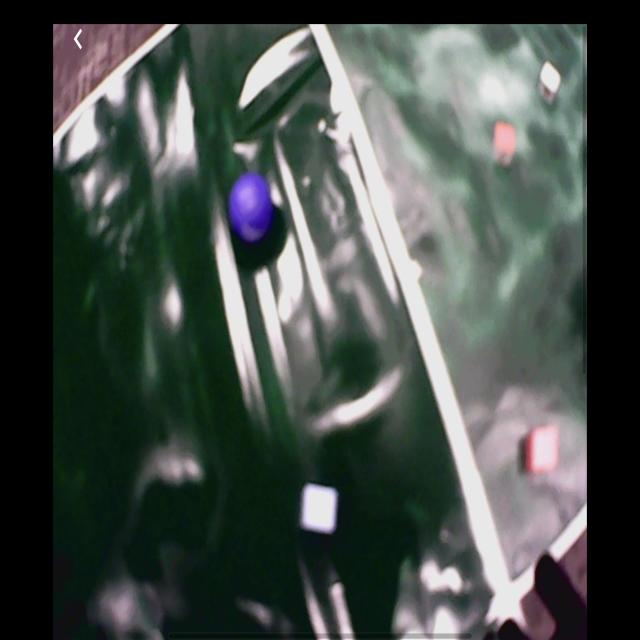ball: (228, 171, 273, 246)
